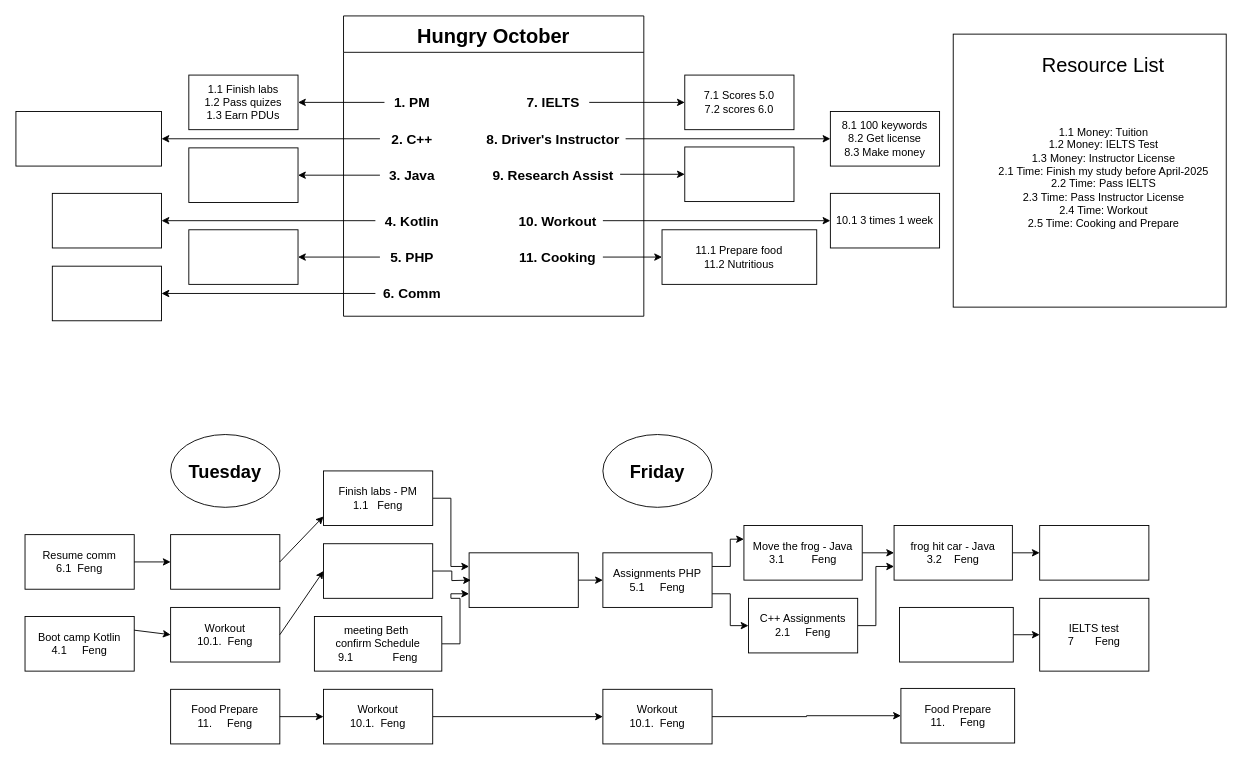
Some shapes in this 1244 by 760 pixel diagram are drawn without their labels. The centre of each missing label's shape, as x and y in pixels:
"2.1 Assignments" belongs at [88,138].
"3.1 Read txt book 3.2 Finish project" belongs at [243,174].
"4.1 Boot camp 4.2 Assignments" belongs at [106,220].
"5.1 Assignments" belongs at [243,256].
"6.1 Resume 6.2 Presentation" belongs at [106,293].
"9.1 meeting Beth confirm Schedule" belongs at [739,174].
"Assignments-android 4.2 Feng" belongs at [523,579].
"Driver's Instructor 8. Feng" belongs at [956,634].
"Earn PDUs 1.3 Feng" belongs at [225,561].
"Pass quizes - PM 1.2 Feng" belongs at [378,570].
"Presentation Comm 6.2 Feng" belongs at [1094,552].
